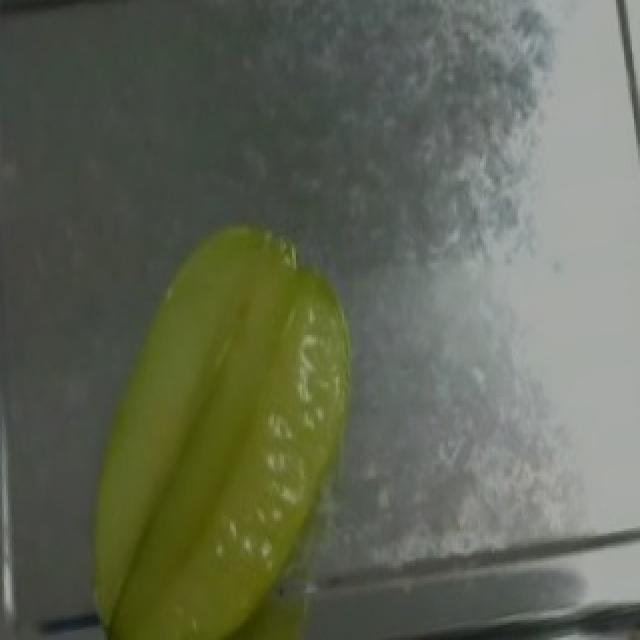fruit: (106, 204, 426, 620)
